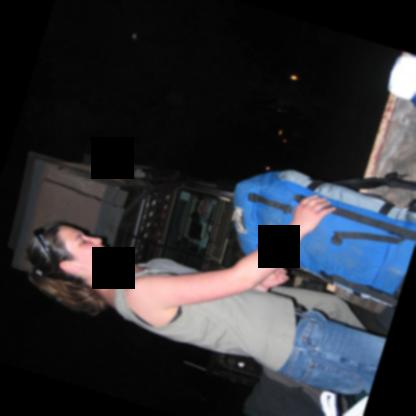backpack: (236, 170, 416, 305)
